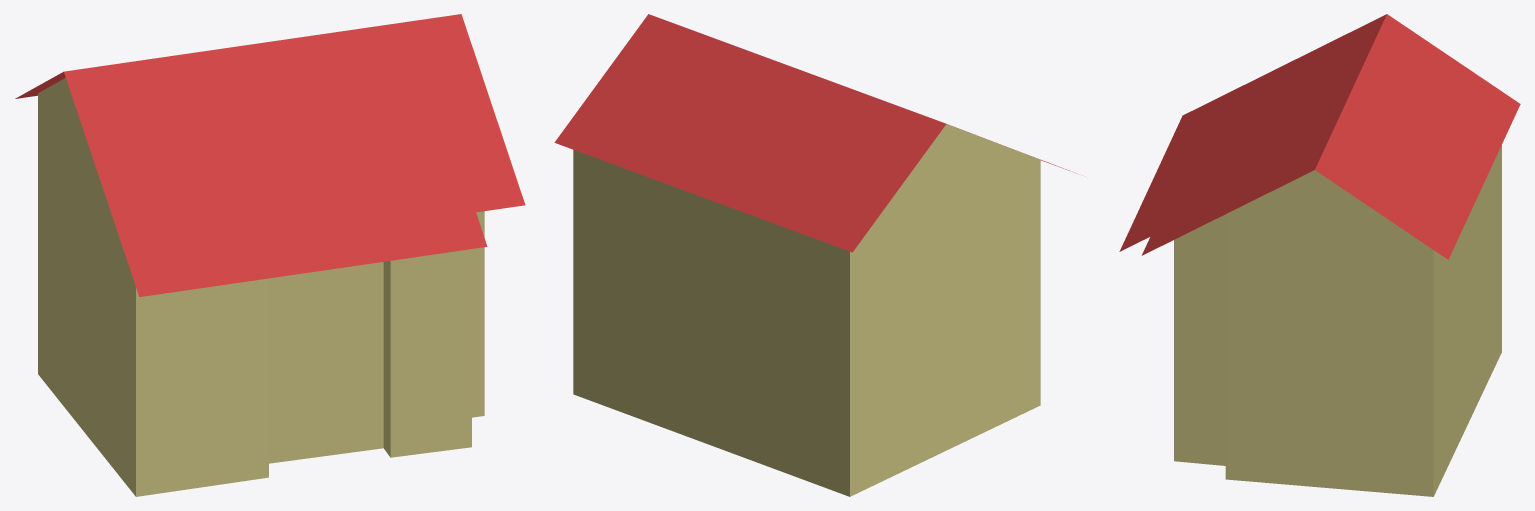
The picture shows the model from 3 angles, left to right: view 1: azimuth 30°, elevation 25°; view 2: azimuth 150°, elevation 25°; view 3: azimuth 270°, elevation 25°; orthographic projection. The views are drawn at different scales.
Size of the model in its own units: 14.91 by 13.75 by 12.14.
